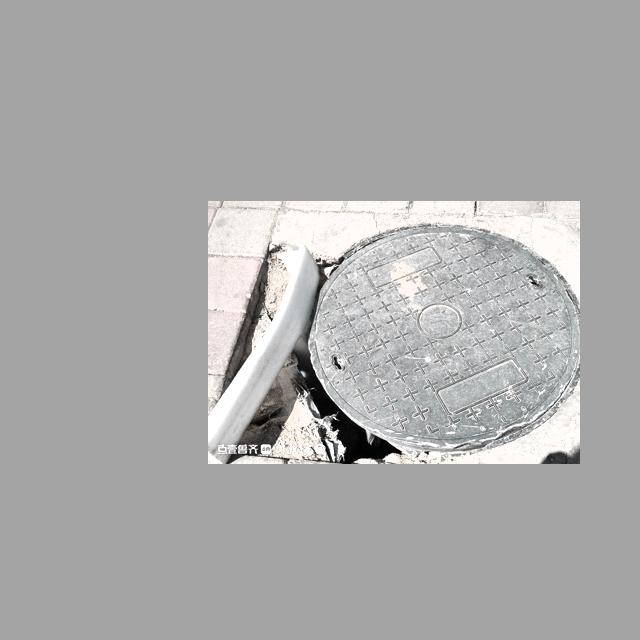circle: (237, 225, 574, 456)
